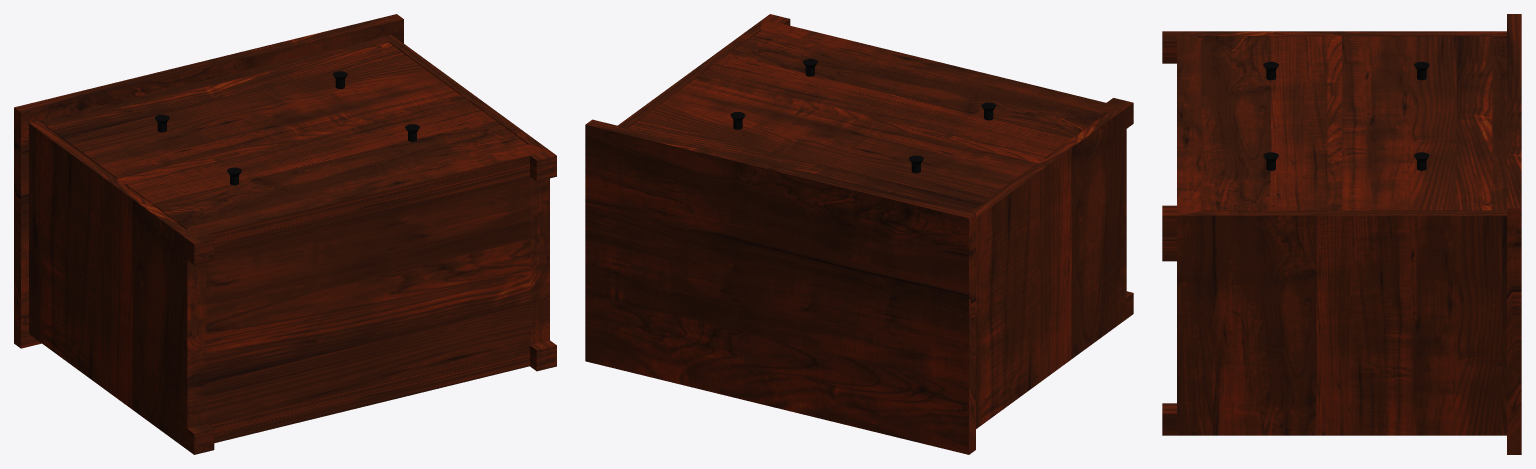
File: Dresser.fbx
The picture shows the model from 3 angles, left to right: view 1: azimuth 30°, elevation 25°; view 2: azimuth 150°, elevation 25°; view 3: azimuth 270°, elevation 25°; orthographic projection. The views are drawn at different scales.
Visible parts, largest first — view 1: Cylinder; view 2: Cylinder; view 3: Cylinder.
Boxes of the visible parts, x1,y1,x2,y2 form: Cylinder: [14, 14, 556, 454]; Cylinder: [585, 14, 1133, 454]; Cylinder: [1162, 14, 1521, 454].
Bounding box in the file's own units: 0.95 × 0.56 × 0.74.
